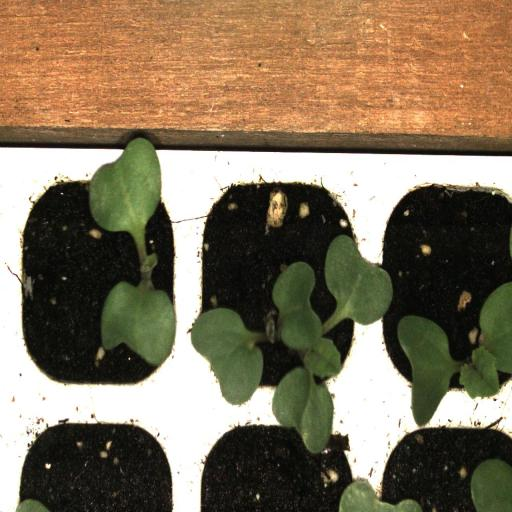seedling: (11, 149, 185, 408), (368, 153, 512, 411)
twoseedling: (187, 152, 368, 412)
